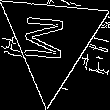M_E: (28, 14, 77, 66)
